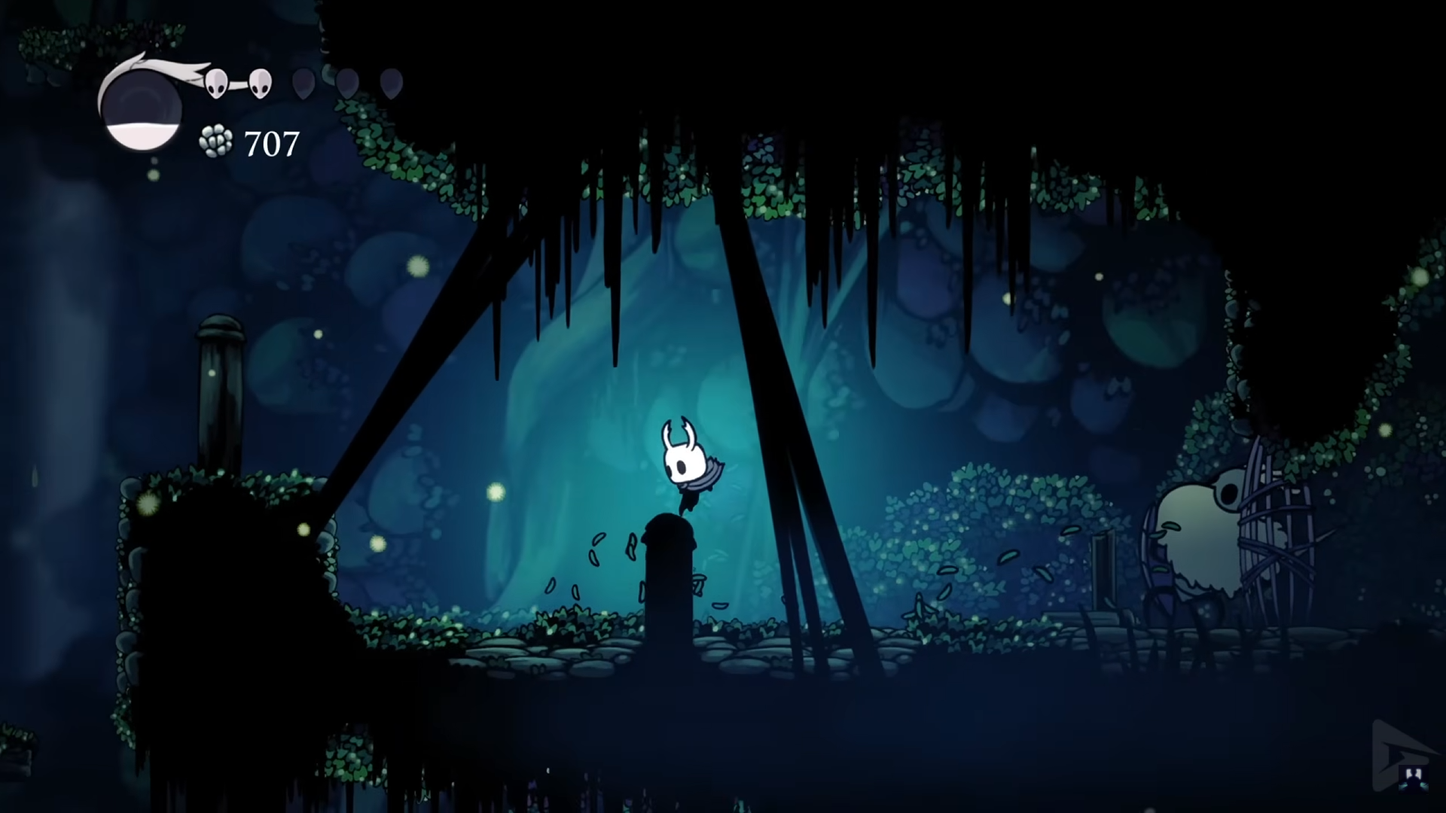HK: (657, 412, 730, 515)
